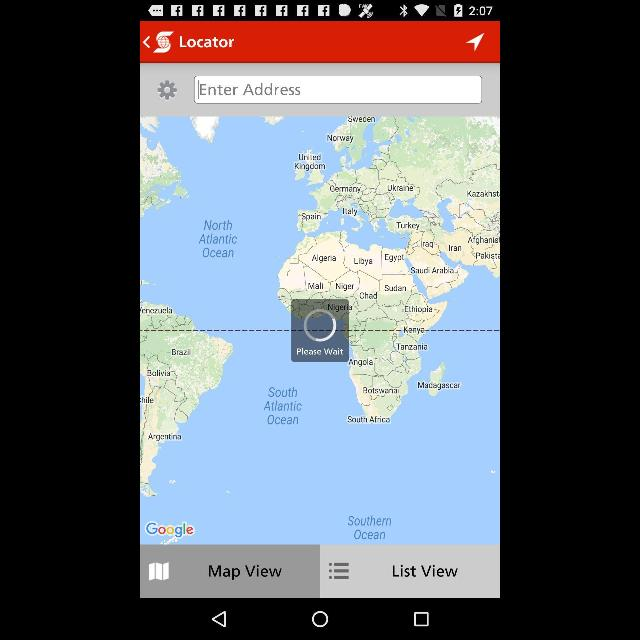icon: (157, 80, 177, 100), (467, 32, 485, 52), (312, 612, 328, 626), (214, 610, 226, 628), (414, 613, 428, 627), (144, 36, 150, 48)
image: (154, 32, 173, 52)
input: (194, 77, 482, 103)
map: (140, 117, 500, 545)
panel: (140, 598, 500, 640)
text: (201, 85, 301, 96), (179, 36, 237, 48)
textbutton: (140, 546, 318, 598), (320, 545, 498, 597)
toolbar: (140, 21, 500, 64)
uppertaskbar: (140, 0, 500, 20)
